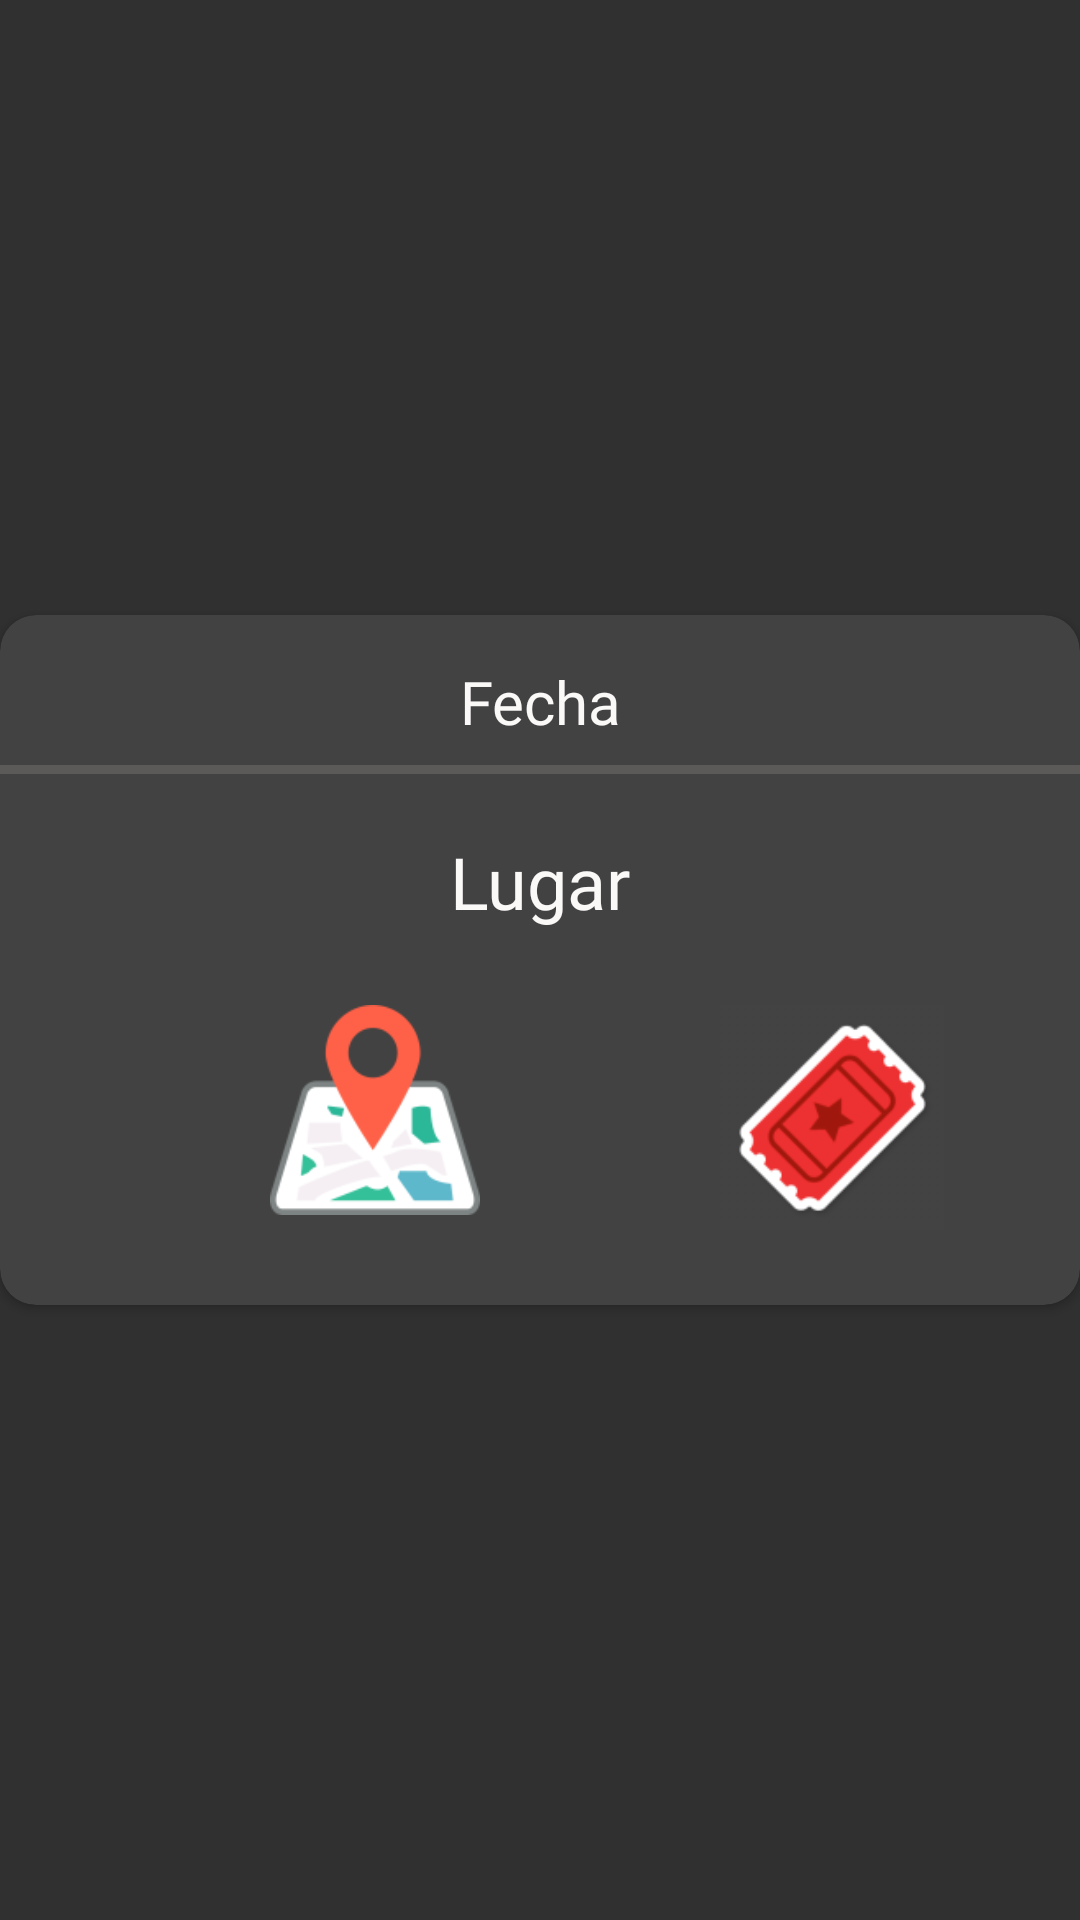

Icon click points for this 1080px×1920px phone screenshot, format (x=x, y=y):
map: (x=375, y=1110)
ticket: (x=832, y=1117)
